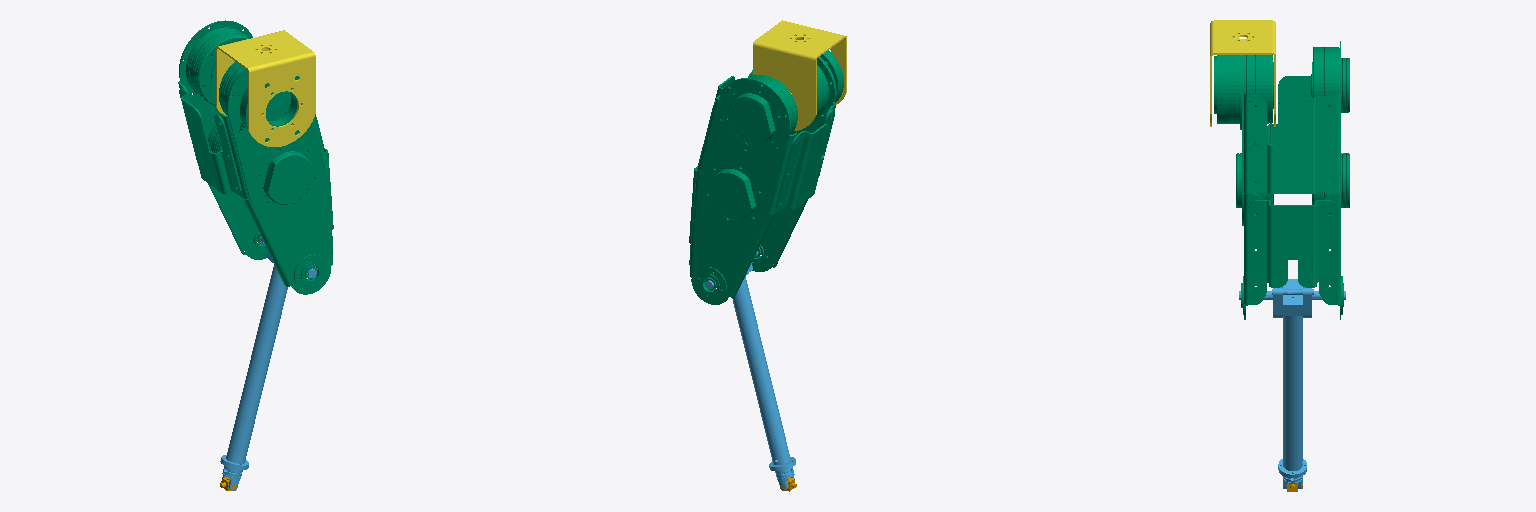
robot.urdf — test_inverted_final_3dof:
<?xml version="1.0" ?>
<robot name="test_inverted_final_3dof">
  <link name="base_link">
    <inertial>
      <origin xyz="-0.007800468073552532 -2.1528612226262567e-13 -3.6316462537211436e-07" rpy="0 0 0"/>
      <mass value="0.0017857987414545656"/>
      <inertia ixx="100.0" ixy="0.0" ixz="0.0" iyy="100.0" iyz="0.0" izz="100.0"/>
    </inertial>
    <visual>
      <origin xyz="0.004092 -0.1 0.561081" rpy="0 0 0"/>
      <geometry>
        <mesh filename="meshes/l_ankle_1.stl" scale="0.001 0.001 0.001"/>
      </geometry>
      <material name="silver"/>
    </visual>
    <collision>
      <origin xyz="0.004092 -0.1 0.561081" rpy="0 0 0"/>
      <geometry>
        <mesh filename="meshes/l_ankle_1.stl" scale="0.001 0.001 0.001"/>
      </geometry>
    </collision>
  </link>

  <joint name="L_Ankle_Pitch" type="continuous">
    <origin xyz="-0.0078 0.0078 0.0" rpy="0 0 0"/>
    <parent link="base_link"/>    
    <child link="l_shank_1"/>
    <axis xyz="0.0 1.0 0.0"/>
  </joint>

  <link name="l_shank_1">
    <inertial>
      <origin xyz="0.047753454927990976 -0.007802351197388646 0.16221228128872173" rpy="0 0 0"/>
      <mass value="0.21284837581671107"/>
      <inertia ixx="0.001435" iyy="0.001566" izz="0.000187" ixy="0.0" iyz="0.0" ixz="-0.000442"/>
    </inertial>
    <visual>
      <origin xyz="0.011892 -0.1078 0.561081" rpy="0 0 0"/>
      <geometry>
        <mesh filename="meshes/l_shank_1.stl" scale="0.001 0.001 0.001"/>
      </geometry>
      <material name="silver"/>
    </visual>
    <collision>
      <origin xyz="0.011892 -0.1078 0.561081" rpy="0 0 0"/>
      <geometry>
        <mesh filename="meshes/l_shank_1.stl" scale="0.001 0.001 0.001"/>
      </geometry>
    </collision>
  </link>

  <joint name="L_Knee_Pitch" type="continuous">
    <origin xyz="0.067965 0.041199 0.246294" rpy="0 0 0"/>
    <parent link="l_shank_1"/>
    <child link="l_thigh_1"/>
    <axis xyz="0.0 1.0 0.0"/>
  </joint>

  <link name="l_thigh_1">
    <inertial>
      <origin xyz="-0.03847951076134135 -0.054672411677168464 0.15911804863560305" rpy="0 0 0"/>
      <mass value="2.4192276463978106"/>
      <inertia ixx="0.01249" iyy="0.010396" izz="0.006309" ixy="-0.000154" iyz="0.000601" ixz="0.002029"/>
    </inertial>
    <visual>
      <origin xyz="-0.056073 -0.148999 0.314787" rpy="0 0 0"/>
      <geometry>
        <mesh filename="meshes/l_thigh_1.stl" scale="0.001 0.001 0.001"/>
      </geometry>
      <material name="silver"/>
    </visual>
    <collision>
      <origin xyz="-0.056073 -0.148999 0.314787" rpy="0 0 0"/>
      <geometry>
        <mesh filename="meshes/l_thigh_1.stl" scale="0.001 0.001 0.001"/>
      </geometry>
    </collision>
  </link>

  <joint name="L_Hip_Pitch" type="continuous">
    <origin xyz="-0.053932 -0.068 0.213287" rpy="0 0 0"/>
    <parent link="l_thigh_1"/>
    <child link="l_hip_pitch_1"/>
    <axis xyz="0.0 1.0 0.0"/>
  </joint>

  <link name="l_hip_pitch_1">
    <inertial>
      <origin xyz="-2.8733765611429693e-07 -0.029750671422763636 0.022749999529343243" rpy="0 0 0"/>
      <mass value="0.09382009482644237"/>
      <inertia ixx="0.000168" iyy="0.000137" izz="0.000133" ixy="0.0" iyz="5e-06" ixz="0.0"/>
    </inertial>
    <visual>
      <origin xyz="-0.002141 -0.080999 0.1015" rpy="0 0 0"/>
      <geometry>
        <mesh filename="meshes/l_hip_pitch_1.stl" scale="0.001 0.001 0.001"/>
      </geometry>
      <material name="silver"/>
    </visual>
    <collision>
      <origin xyz="-0.002141 -0.080999 0.1015" rpy="0 0 0"/>
      <geometry>
        <mesh filename="meshes/l_hip_pitch_1.stl" scale="0.001 0.001 0.001"/>
      </geometry>
    </collision>
  </link>
 


</robot>

--- Render facts (derived) ---
The picture shows the robot from 3 angles, left to right: view 1: azimuth 30°, elevation 25°; view 2: azimuth 150°, elevation 25°; view 3: azimuth 270°, elevation 25°; orthographic projection.
Robot: test_inverted_final_3dof — 4 links, 3 joints (3 continuous); root link base_link; default pose: all joints at 0.
Links seen in each view (by area): view 1: l_thigh_1, l_hip_pitch_1, l_shank_1; view 2: l_thigh_1, l_hip_pitch_1, l_shank_1; view 3: l_thigh_1, l_shank_1, l_hip_pitch_1.
Boxes of the visible links, x1,y1,x2,y2 form: l_thigh_1: (178, 20, 333, 294); l_hip_pitch_1: (216, 30, 315, 146); l_shank_1: (220, 237, 316, 490); l_thigh_1: (689, 50, 843, 304); l_hip_pitch_1: (753, 20, 846, 130); l_shank_1: (705, 251, 795, 490); l_thigh_1: (1214, 41, 1349, 319); l_shank_1: (1239, 279, 1345, 488); l_hip_pitch_1: (1210, 20, 1275, 126).
Bounding box of the posed robot: 0.1576 × 0.1435 × 0.5208 m (x, y, z).
4 mesh visuals loaded from 4 distinct referenced files (4 binary STL).
